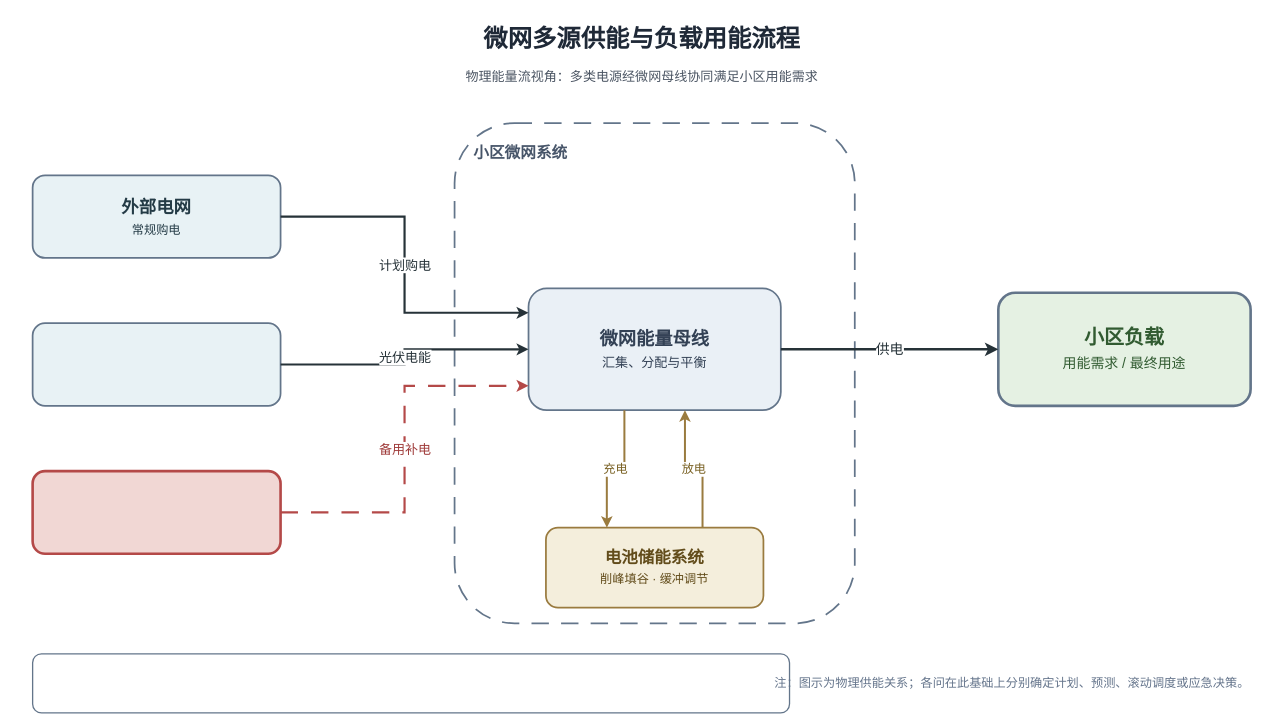
This 1282x728 diagram has some shape labels left out. The shapes that lost their labels are listed below. From the top down, each one's centre as x and y in pixels, then its label:
the point at 156,364: 光伏发电 本地清洁电源
the point at 156,512: 应急购电 供能不足时启用
the point at 411,683: 图例： 实线 = 常规能量流 虚线 = 应急/备用供能 双向连接 = 储能充放电调节
